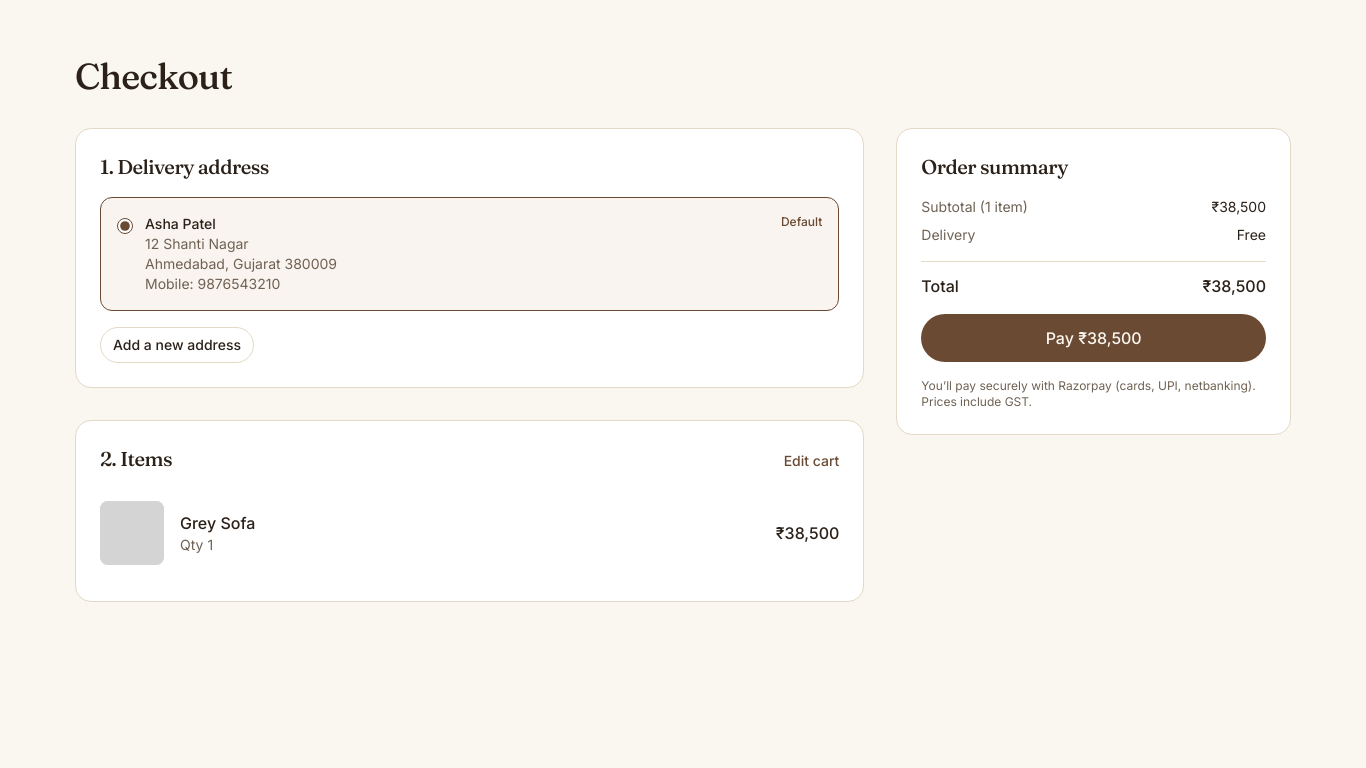
paying at checkout › a payment the server can’t verify is explained on the order page
What coordinates should you click on to do the following:
click the button "Pay ₹38,500"
I would click on:
 (1094, 338)
Its box is [921,314,1266,362].
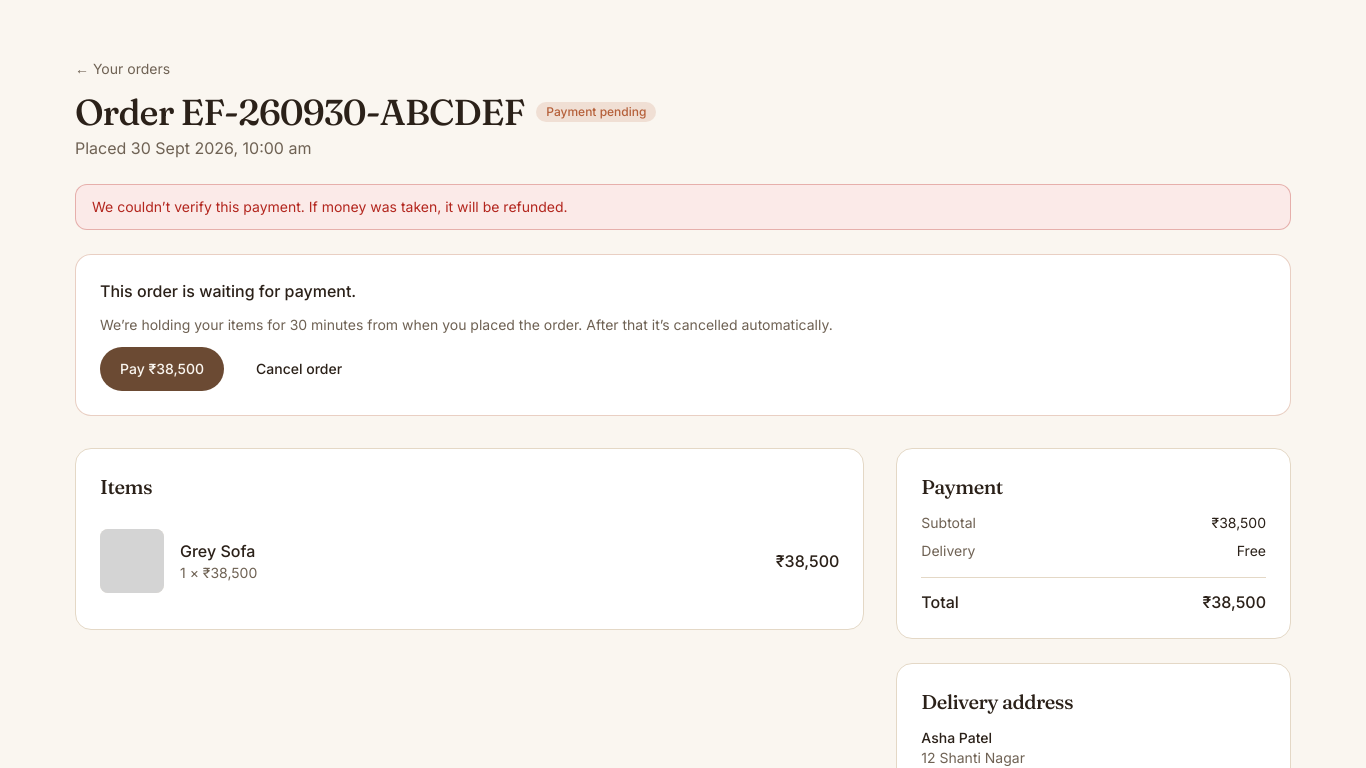
Result: the message shows "We couldn’t verify this payment" at [92,198,568,215]
